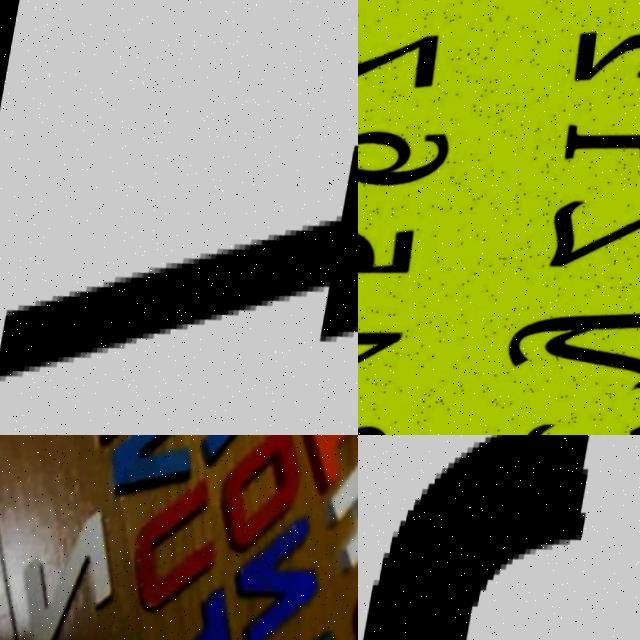1: (553, 106, 640, 191)
2: (554, 14, 640, 114)
4: (358, 296, 430, 413)
5: (358, 200, 441, 311)
6: (358, 104, 479, 215)
7: (358, 3, 471, 122)
C: (367, 435, 589, 640)
F: (0, 7, 358, 435)
H: (318, 435, 358, 573)
I: (292, 435, 358, 496)
N: (224, 517, 329, 640)
O: (218, 435, 311, 556)
T: (154, 583, 252, 640)
U: (127, 478, 228, 615)
V: (111, 435, 206, 498)
Z: (13, 497, 132, 640)
